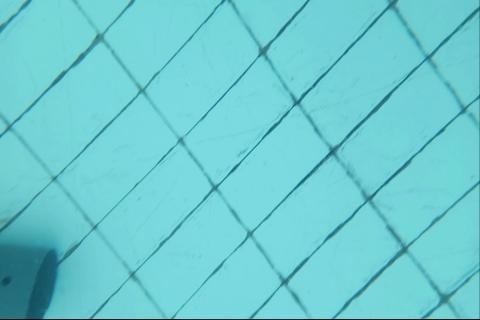kebocoran: (1, 274, 12, 288)
